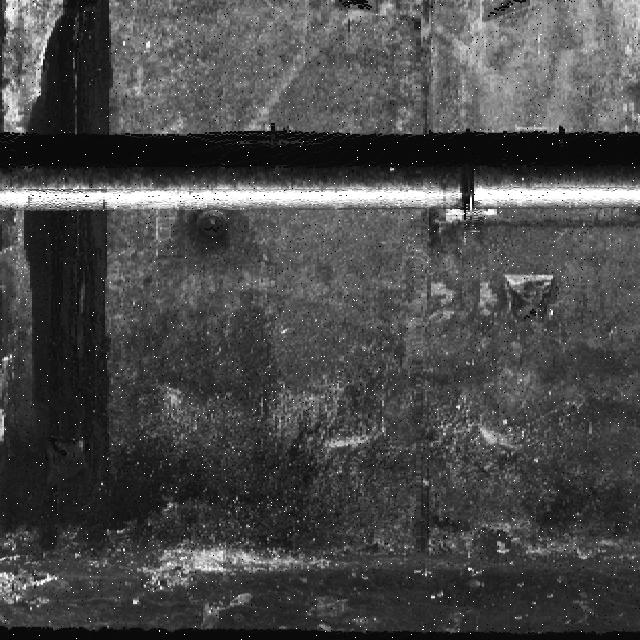leakage: (3, 214, 175, 565), (22, 1, 123, 140)
